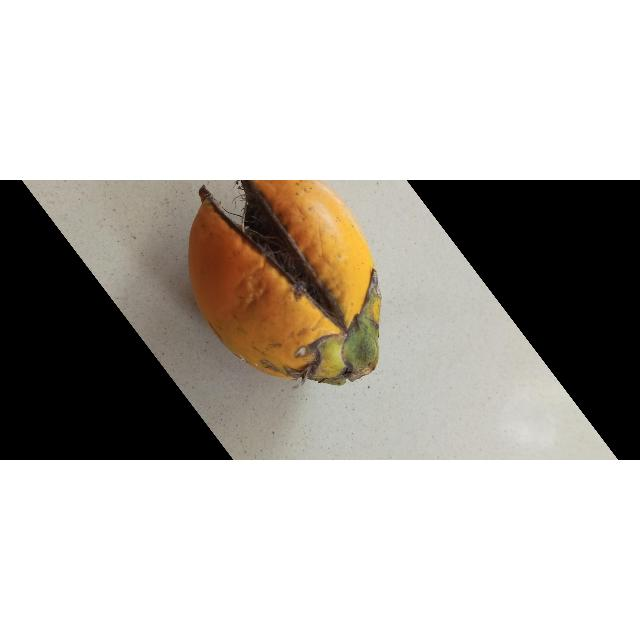damaged: (189, 180, 381, 388)
